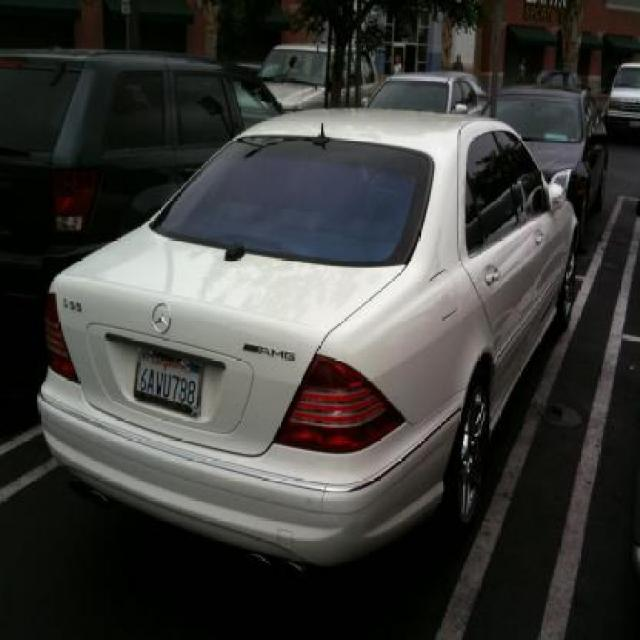License-Plates: (129, 342, 211, 422)
